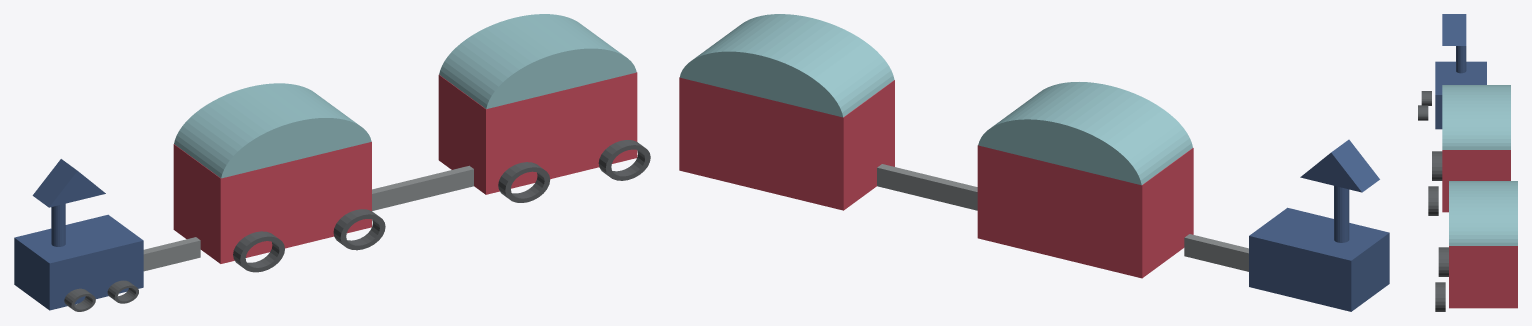
The picture shows the model from 3 angles, left to right: view 1: azimuth 30°, elevation 25°; view 2: azimuth 150°, elevation 25°; view 3: azimuth 270°, elevation 25°; orthographic projection. The views are drawn at different scales.
Visible parts, largest first — view 1: Mesh_Mesh_head_geo.001_lambert2SG.001; view 2: Mesh_Mesh_head_geo.001_lambert2SG.001; view 3: Mesh_Mesh_head_geo.001_lambert2SG.001.
Boxes of the visible parts, <box> form: Mesh_Mesh_head_geo.001_lambert2SG.001: <box>14,14,650,311</box>; Mesh_Mesh_head_geo.001_lambert2SG.001: <box>679,14,1389,311</box>; Mesh_Mesh_head_geo.001_lambert2SG.001: <box>1418,14,1517,311</box>.
Size of the model in its own units: 147 by 32.5 by 29.
